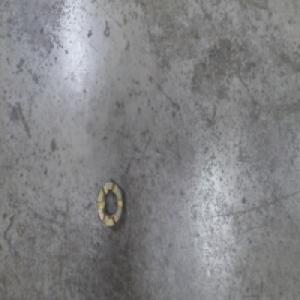Nut: (95, 177, 124, 231)
